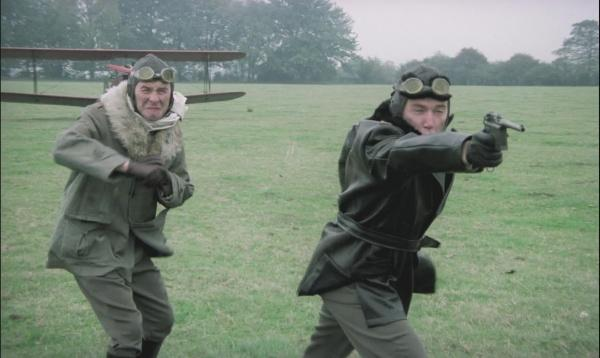Gun: (482, 111, 525, 149)
